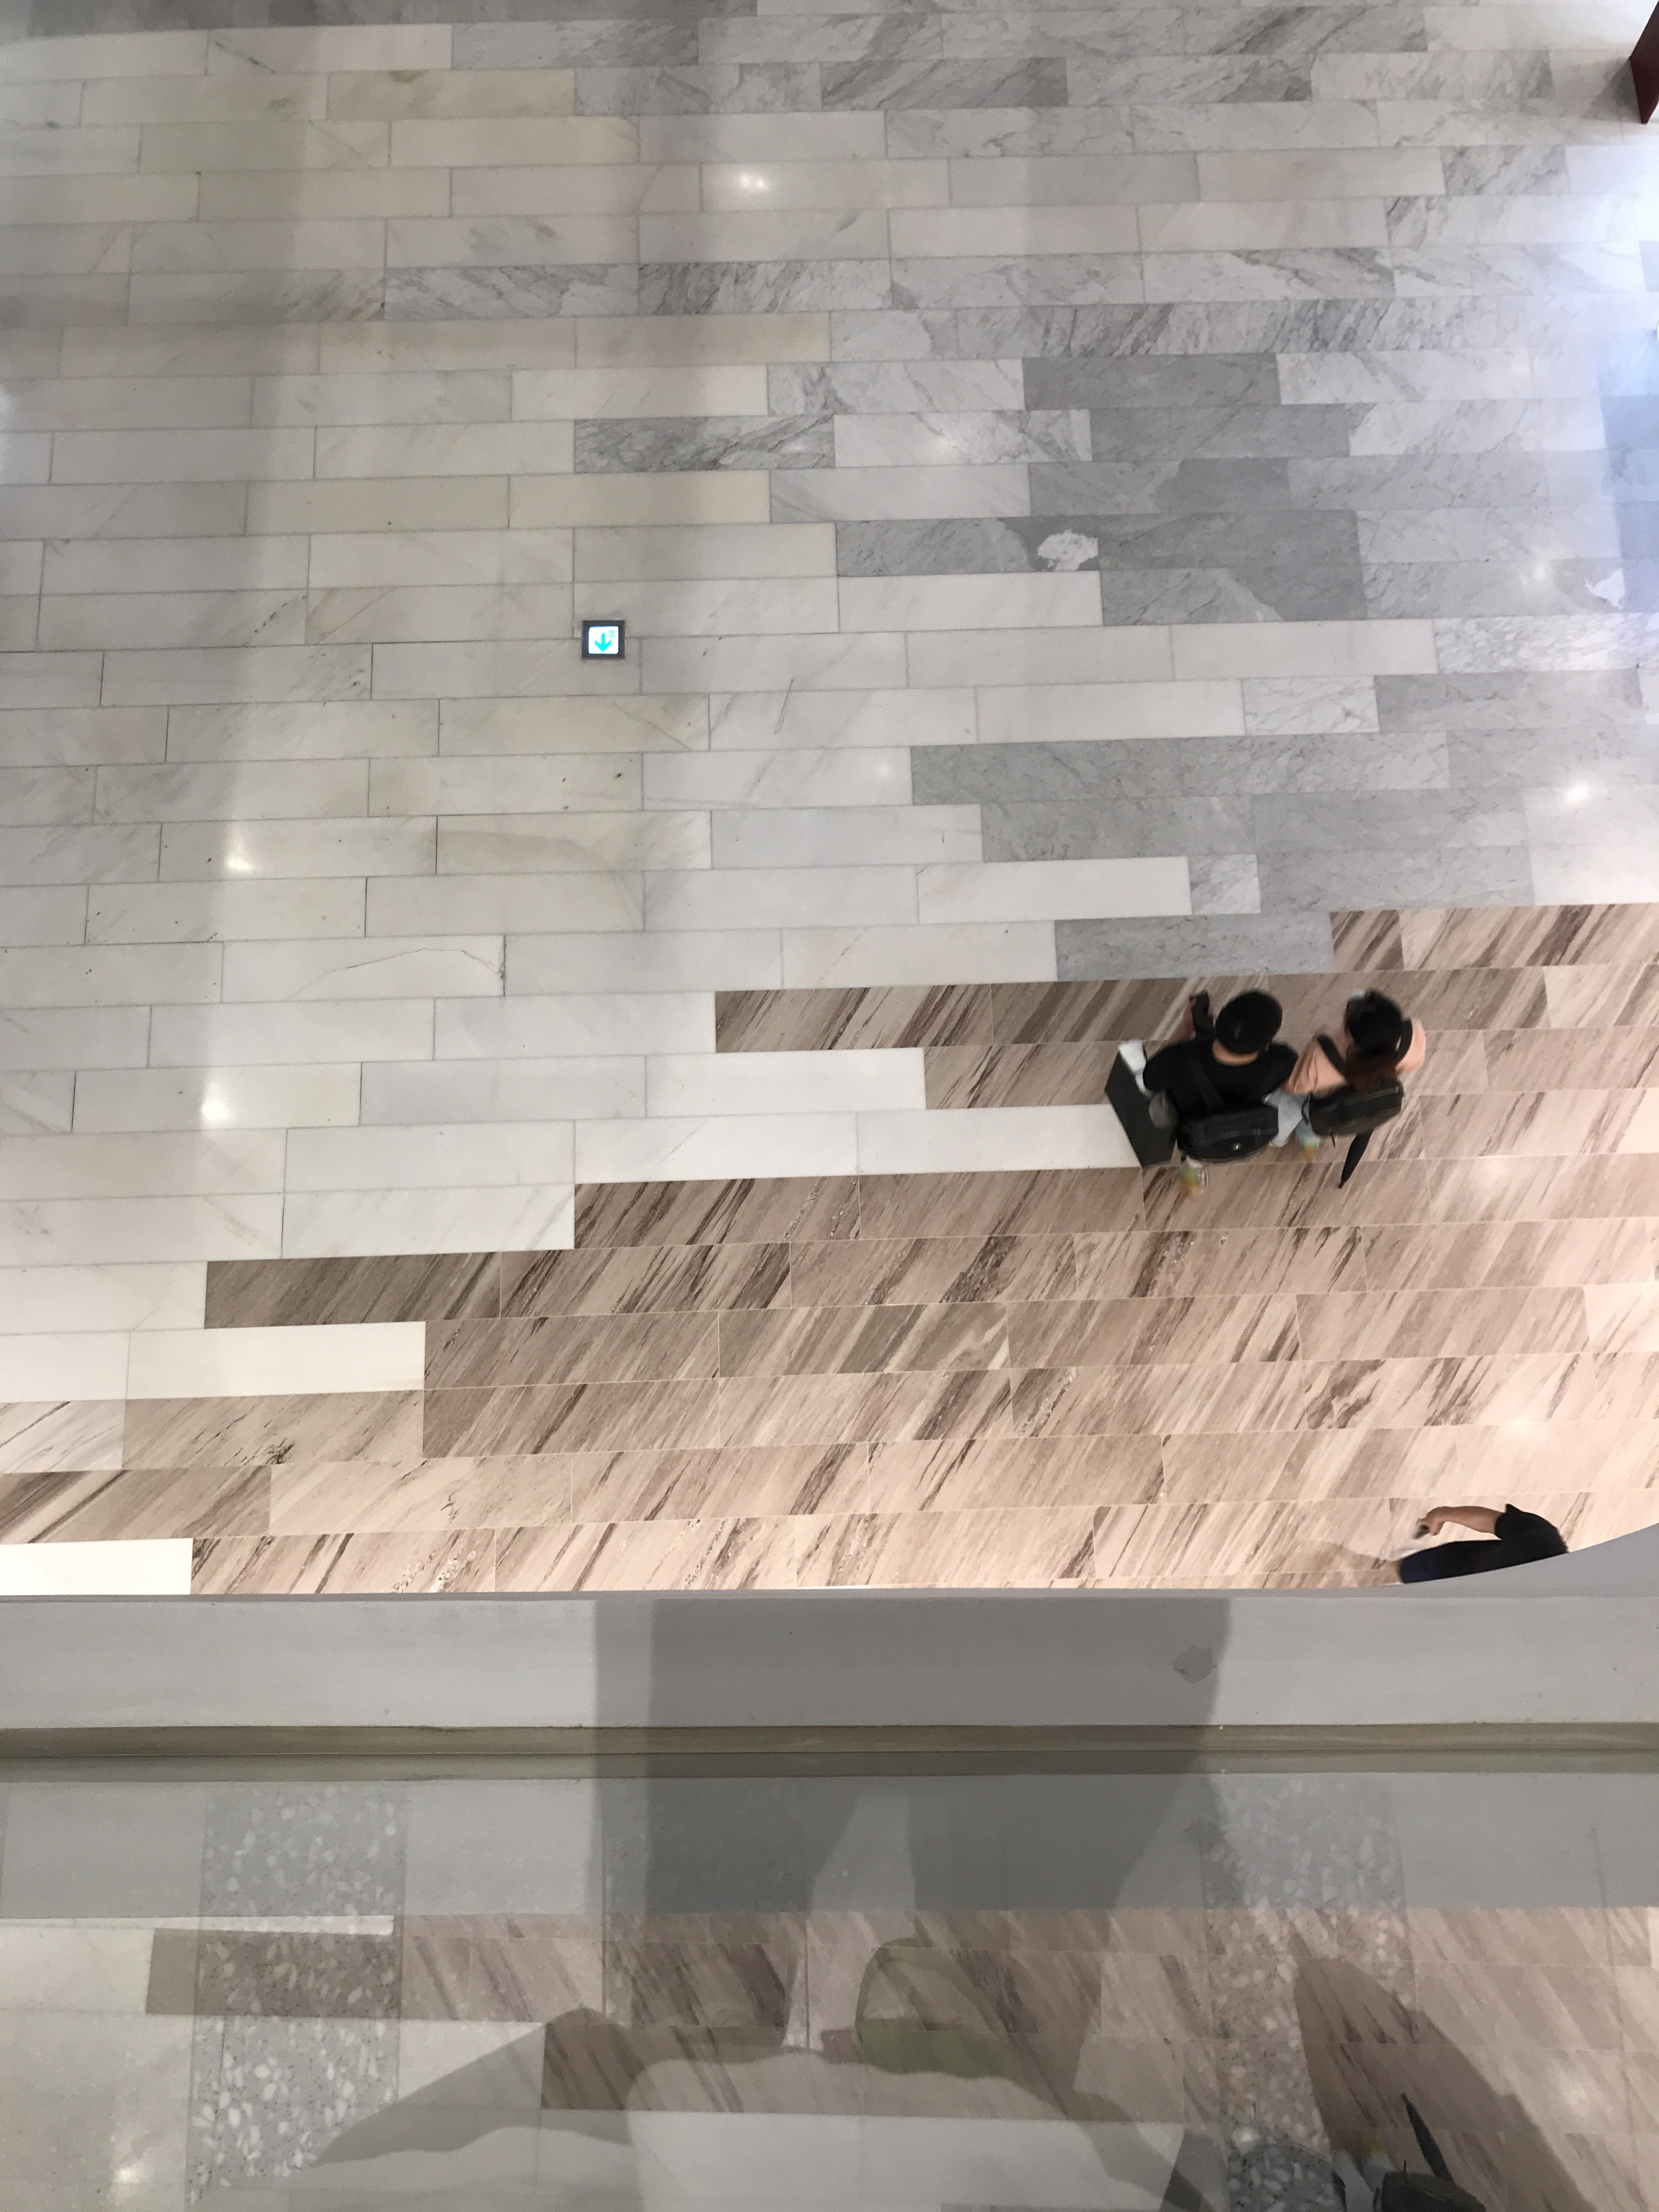person: (1094, 984, 1299, 1177), (1291, 984, 1427, 1153)
